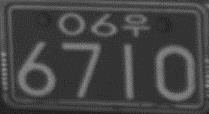0: (154, 44, 196, 103), (56, 11, 85, 36)
1: (112, 43, 147, 100)
6: (16, 41, 57, 98), (90, 12, 118, 37)
7: (60, 41, 102, 99)
우: (121, 12, 151, 38)
